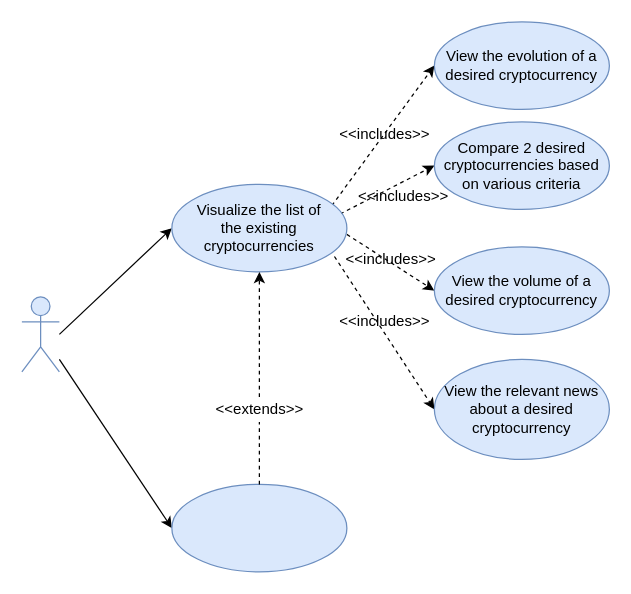
Some shapes in this 631 by 594 pixel diagram are drawn without their labels. Here are the shapes that lost their labels. From the top down, the centre of each, then its label:
At (x=40, y=334): "User".
At (x=259, y=527): "Export the data in the desired format".
